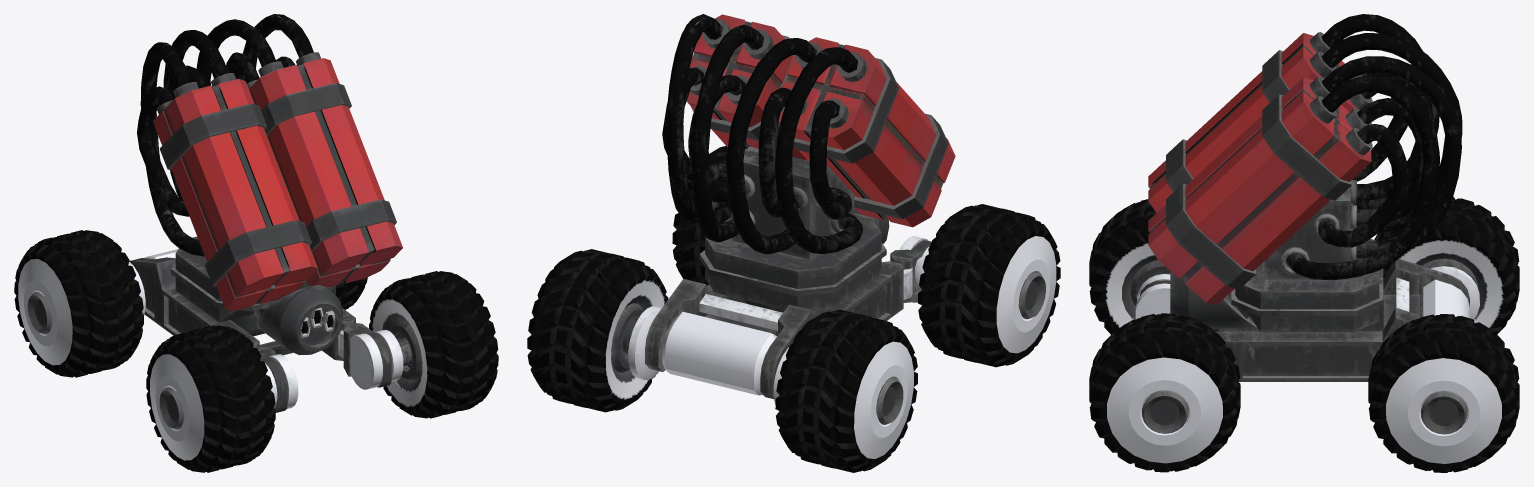
The model's file is exploder.glb.
3 views of the same model, side by side, from view 1: azimuth 30°, elevation 25°; view 2: azimuth 150°, elevation 25°; view 3: azimuth 270°, elevation 25° (orthographic). The views are drawn at different scales.
Parts seen in each view (by area): view 1: Exploder; view 2: Exploder; view 3: Exploder.
Boxes of the visible parts, x1,y1,x2,y2 form: Exploder: [14, 14, 498, 472]; Exploder: [527, 14, 1060, 472]; Exploder: [1089, 14, 1519, 472].
Bounding box in the file's own units: 0.5031 × 0.5216 × 0.5687.
1 material, 1 textured.
